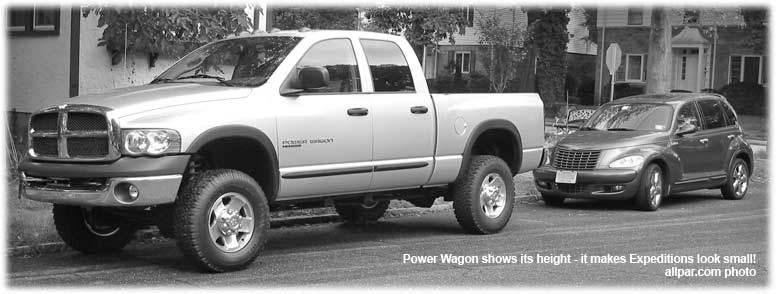car: (23, 30, 547, 273)
